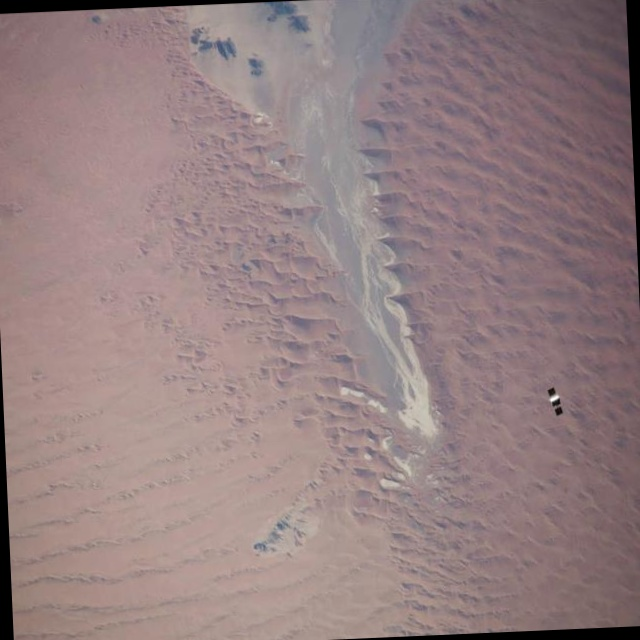satellite: (538, 378, 575, 424)
